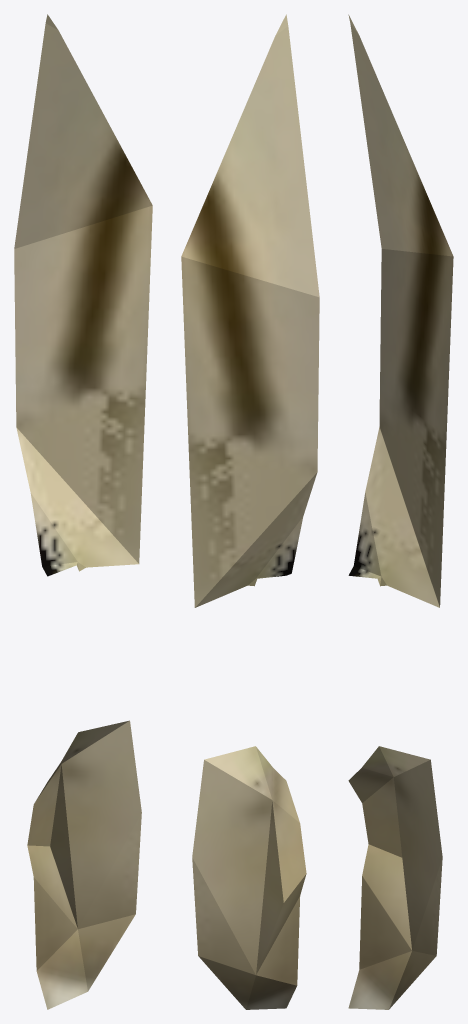
3 renders of one model, left to right at view 1: azimuth 30°, elevation 25°; view 2: azimuth 210°, elevation 25°; view 3: azimuth 330°, elevation 25°, orthographic.
Bounding box in the file's own units: 0.1498 × 1.35 × 0.082.
Materials: 1 (1 with a texture image).
